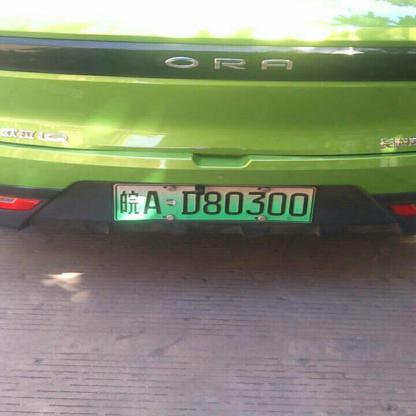lp: (116, 186, 312, 221)
